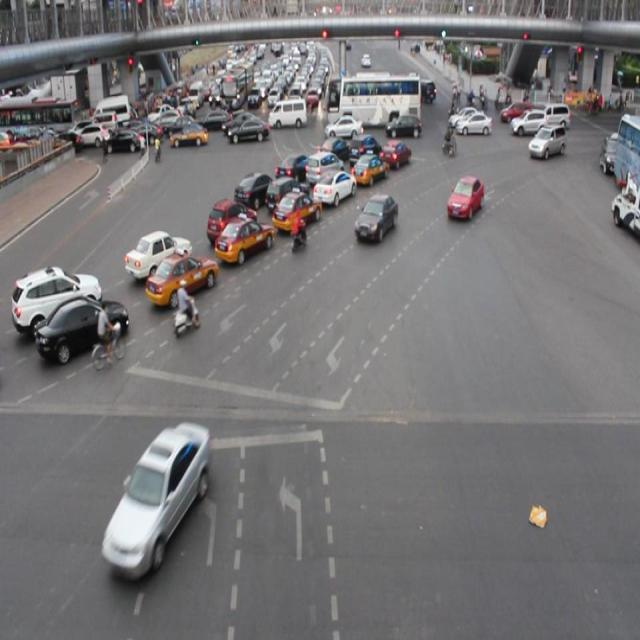car: (112, 432, 212, 569), (13, 268, 102, 331), (36, 298, 127, 356), (145, 251, 217, 301), (126, 229, 191, 278), (215, 216, 274, 260), (354, 193, 397, 243), (205, 198, 256, 239), (274, 188, 320, 232), (266, 175, 309, 216), (445, 176, 484, 220), (312, 169, 355, 207), (235, 172, 278, 208), (528, 125, 564, 161), (306, 149, 343, 184), (351, 152, 388, 187), (275, 153, 311, 188), (346, 133, 382, 167), (380, 135, 411, 171), (320, 137, 350, 165)
